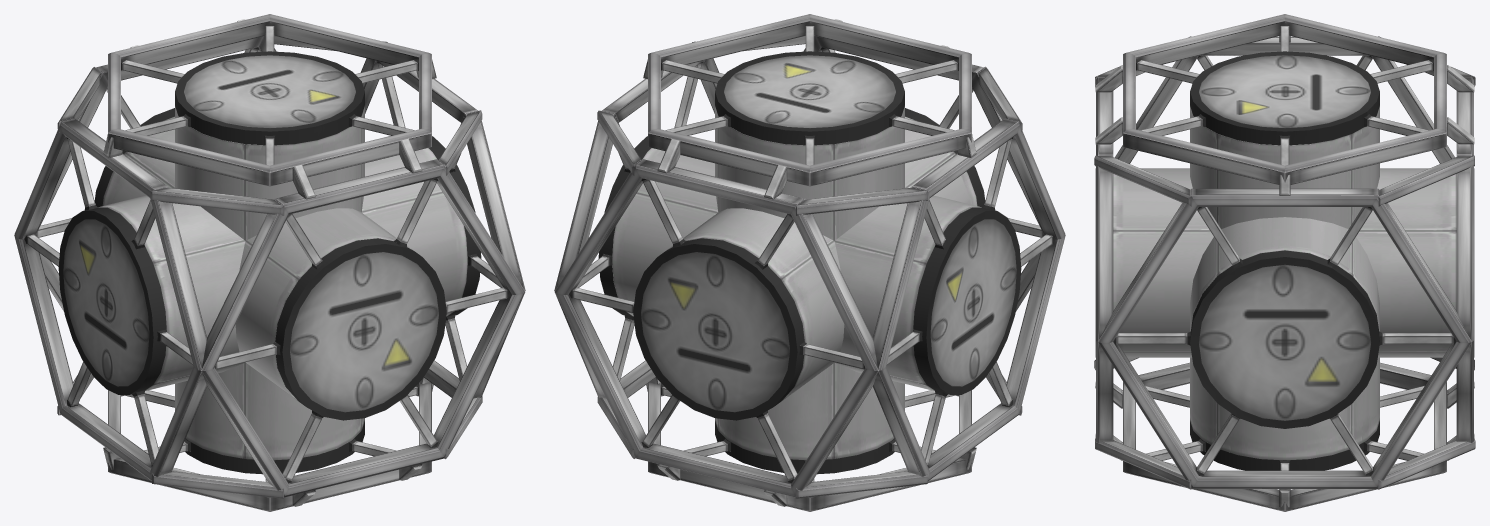
Rendered from HexNode2.FBX.
The picture shows the model from 3 angles, left to right: view 1: azimuth 30°, elevation 25°; view 2: azimuth 150°, elevation 25°; view 3: azimuth 270°, elevation 25°; orthographic projection.
Visible parts, largest first — view 1: EndCap025, EndBeam013, Cylinder013, Cylinder020, EndBeam016, EndCap028, EndBeam011, EndCap021, Cylinder019, EndBeam015, EndBeam012, EndBeam014 (+21 smaller); view 2: EndCap026, EndBeam014, Cylinder013, Cylinder020, EndBeam016, EndCap028, EndBeam011, EndCap021, Cylinder019, EndBeam015, EndBeam012, EndBeam013 (+21 smaller); view 3: EndCap027, Cylinder019, EndBeam015, Cylinder013, EndBeam011, EndCap021, Cylinder020, EndBeam012, EndBeam014, EndBeam013, EndBeam016, EndCap024 (+22 smaller).
Boxes of the visible parts, <box> form: EndCap025: <box>275,238,446,420</box>; EndBeam013: <box>201,159,525,497</box>; Cylinder013: <box>175,106,364,460</box>; Cylinder020: <box>98,136,467,390</box>; EndBeam016: <box>14,118,214,480</box>; EndCap028: <box>58,207,166,394</box>; EndBeam011: <box>108,14,431,186</box>; EndCap021: <box>175,51,364,145</box>; Cylinder019: <box>102,116,413,400</box>; EndBeam015: <box>360,58,525,398</box>; EndBeam012: <box>108,382,431,511</box>; EndBeam014: <box>22,36,276,311</box>; EndCap026: <box>633,238,804,420</box>; EndBeam014: <box>554,159,878,497</box>; Cylinder013: <box>715,106,904,460</box>; Cylinder020: <box>612,136,981,390</box>; EndBeam016: <box>865,118,1065,481</box>; EndCap028: <box>913,207,1021,394</box>; EndBeam011: <box>648,14,971,186</box>; EndCap021: <box>715,51,904,145</box>; Cylinder019: <box>666,116,977,400</box>; EndBeam015: <box>554,58,719,398</box>; EndBeam012: <box>648,382,971,511</box>; EndBeam013: <box>803,36,1057,311</box>; EndCap027: <box>1190,250,1379,428</box>; Cylinder019: <box>1113,168,1456,357</box>; EndBeam015: <box>1098,188,1471,488</box>; Cylinder013: <box>1190,106,1379,460</box>; EndBeam011: <box>1123,14,1446,184</box>; EndCap021: <box>1190,51,1379,145</box>; Cylinder020: <box>1190,143,1379,331</box>; EndBeam012: <box>1123,362,1446,511</box>; EndBeam014: <box>1456,76,1473,442</box>; EndBeam013: <box>1096,76,1113,442</box>; EndBeam016: <box>1115,37,1454,163</box>; EndCap024: <box>1190,421,1379,470</box>.
Size of what is drawn, in the model's own units: 2.51 by 2.49 by 2.51.
